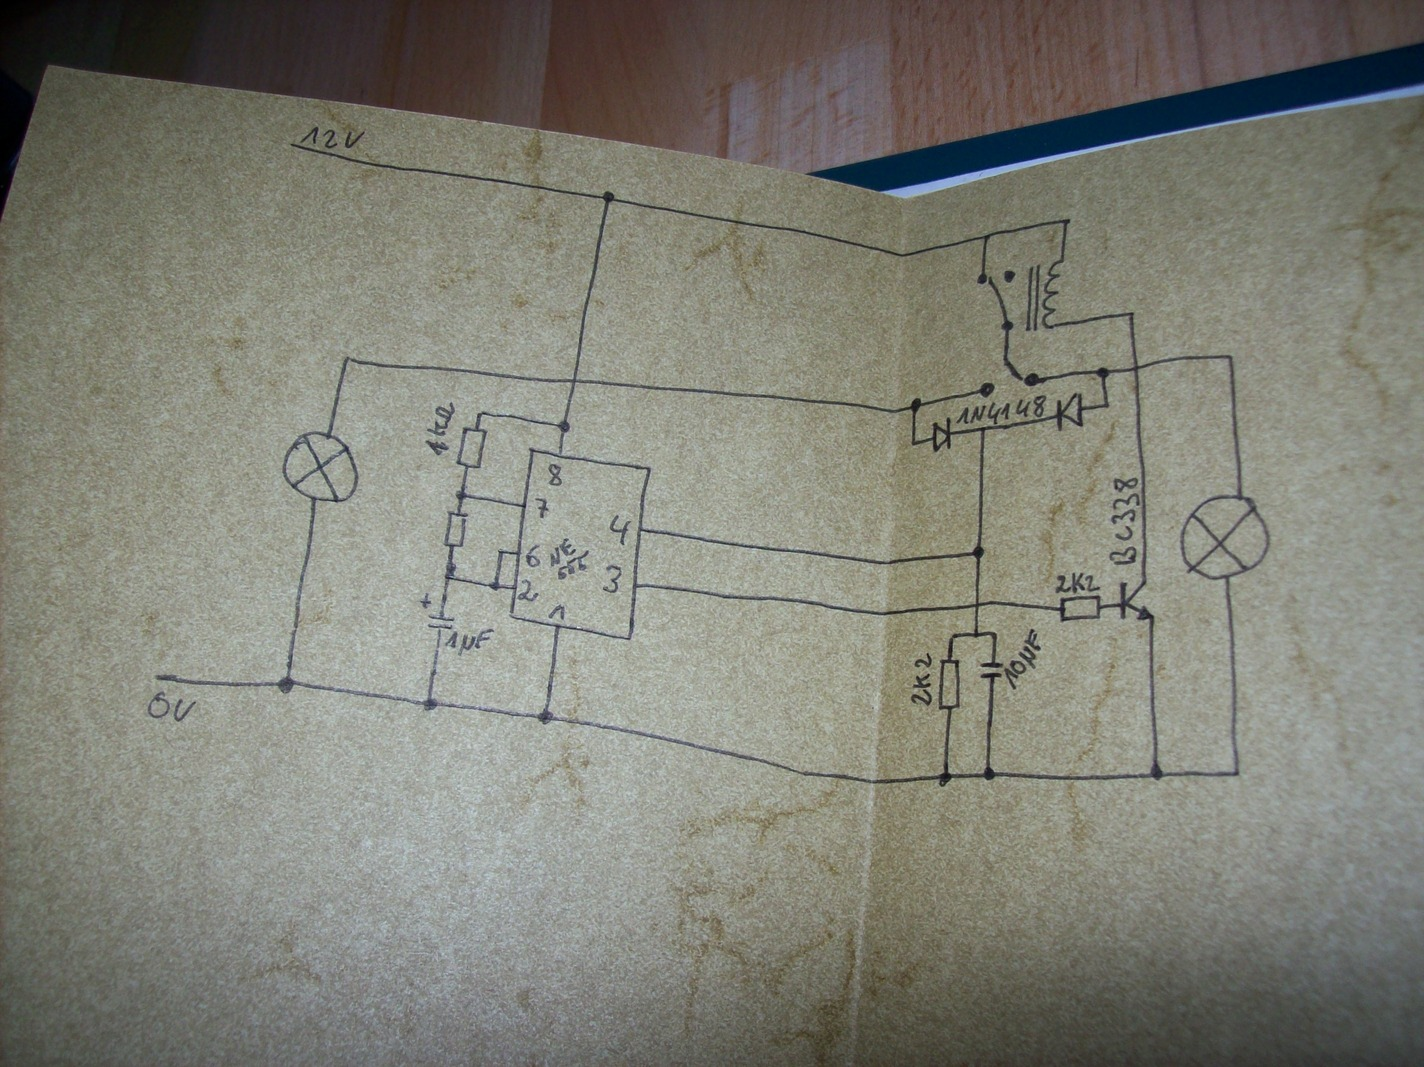capacitor.polarized: (419, 592, 456, 632)
capacitor.unpolarized: (978, 659, 1004, 680)
crossover: (568, 373, 581, 387), (1129, 362, 1144, 373), (971, 600, 984, 610)
diode: (1054, 391, 1085, 432), (931, 416, 953, 453)
integrated_cricuit.ne555: (508, 447, 652, 642)
junction: (276, 675, 295, 695), (1148, 761, 1164, 783), (537, 708, 553, 726), (443, 560, 456, 582), (938, 769, 952, 788), (909, 396, 923, 415), (981, 766, 997, 782), (556, 418, 571, 434), (601, 191, 617, 205), (424, 697, 439, 712), (971, 544, 985, 560), (1095, 365, 1111, 379), (455, 488, 468, 502), (1230, 766, 1242, 780), (1059, 215, 1072, 228), (495, 546, 508, 558), (488, 579, 501, 592), (342, 353, 354, 365), (981, 231, 994, 243), (908, 436, 919, 449), (1223, 352, 1237, 363), (970, 628, 981, 640), (989, 628, 1000, 640), (475, 408, 486, 420), (976, 424, 988, 435), (1125, 308, 1137, 319), (948, 631, 958, 643), (1100, 400, 1113, 410)
lamp: (1178, 493, 1271, 579), (281, 430, 360, 504)
relay: (976, 257, 1067, 333)
resistor: (455, 426, 488, 470), (937, 657, 962, 712), (1058, 594, 1102, 623), (441, 509, 468, 548)
switch: (977, 355, 1043, 398)
terminal: (151, 671, 165, 685), (286, 140, 299, 152)
text: (1108, 476, 1141, 568), (953, 395, 1048, 424), (1004, 628, 1043, 690), (424, 401, 456, 458), (549, 536, 590, 579), (146, 690, 197, 722), (300, 126, 365, 150), (444, 628, 496, 657), (908, 652, 934, 708), (1054, 570, 1102, 594), (602, 564, 623, 595), (608, 514, 630, 545), (516, 578, 539, 603), (525, 542, 542, 568), (547, 462, 564, 488), (533, 497, 550, 521), (548, 603, 565, 624)
transistor: (1118, 577, 1156, 624)
